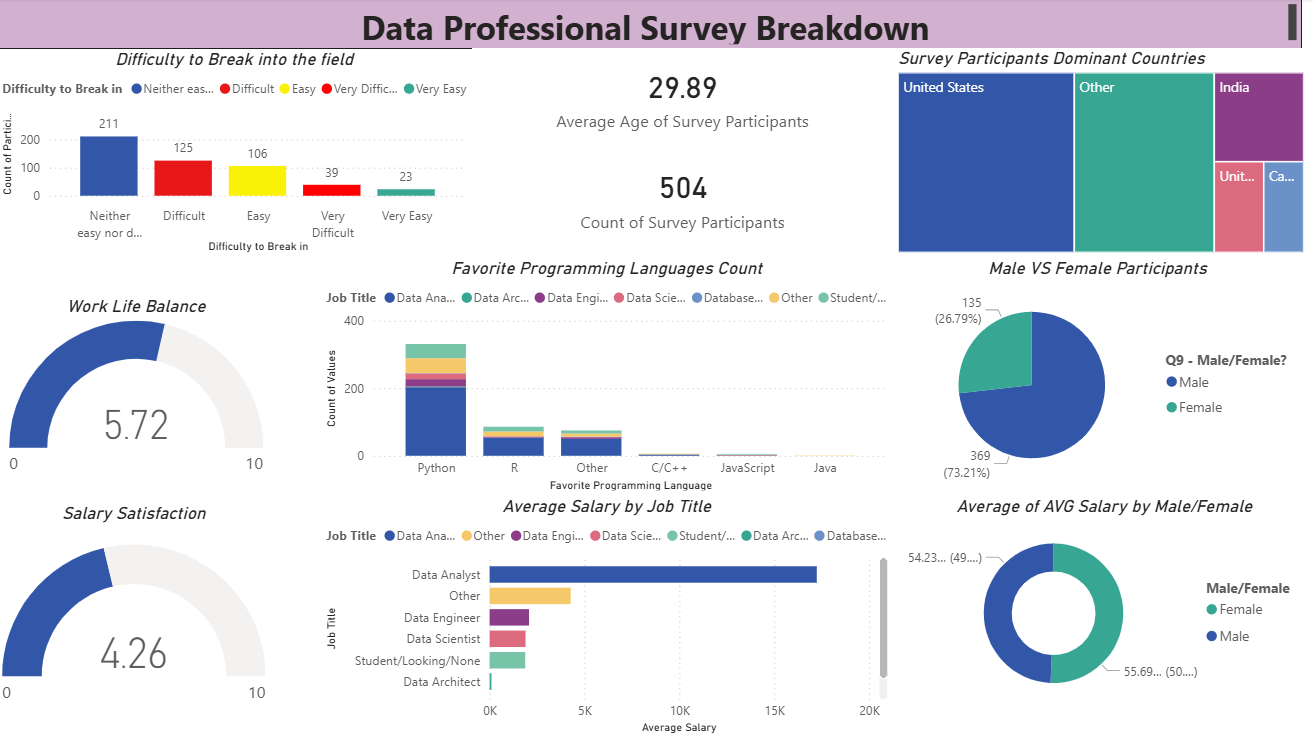

This screenshot's page, from the dashboard's own definition file:
{"tool":"powerbi","page":{"name":"Page 1","canvas":[1280,720],"ordinal":0},"visuals":[{"type":"textbox","box":[0,1.1,1269.4,48.8],"z":0},{"type":"card","fields":{"Values":["CountNonNull(Data Professional Survey.Unique ID)"]},"box":[461.7,150.7,409.7,84.9],"z":1000},{"type":"card","fields":{"Values":["Avg(Data Professional Survey.Q10 - Current Age)"]},"box":[461.7,48.8,409.7,93.4],"z":2000},{"type":"barChart","title":"Average Salary by Job Title","fields":{"Category":["Data Professional Survey.Q1 - Which Title Best Fits your Current Role?.1"],"Y":["Sum(Data Professional Survey.AVG Salary)"],"Series":["Data Professional Survey.Q1 - Which Title Best Fits your Current Role?.1"]},"box":[315.2,484,556.2,235.6],"z":3000},{"type":"columnChart","title":"Favorite Programming Languages Count","fields":{"Category":["Data Professional Survey.Q5 - Favorite Programming Language.1"],"Y":["CountNonNull(Data Professional Survey.Unique ID)"],"Series":["Data Professional Survey.Q1 - Which Title Best Fits your Current Role?.1"]},"box":[315.2,252.6,556.2,231.4],"z":4000},{"type":"treemap","title":"Survey Participants Dominant Countries","fields":{"Group":["Data Professional Survey.Q11 - Which Country do you live in?.1"],"Values":["CountNonNull(Data Professional Survey.Q11 - Which Country do you live in?.1)"]},"box":[871.4,48.8,404.4,203.8],"z":5000},{"type":"gauge","title":"Work Life Balance","fields":{"Y":["Avg(Data Professional Survey.Q6 - How Happy are you in your Current Position with the following? (Work/Life Balance))"],"MinValue":["Min(Data Professional Survey.Q6 - How Happy are you in your Current Position with the following? (Work/Life Balance))"],"MaxValue":["Max(Data Professional Survey.Q6 - How Happy are you in your Current Position with the following? (Work/Life Balance))"]},"box":[5.3,289.8,261.1,183.6],"z":6000},{"type":"gauge","title":"Salary Satisfaction","fields":{"Y":["Avg(Data Professional Survey.Q6 - How Happy are you in your Current Position with the following? (Salary))"],"MinValue":["Min(Data Professional Survey.Q6 - How Happy are you in your Current Position with the following? (Salary))"],"MaxValue":["Max(Data Professional Survey.Q6 - How Happy are you in your Current Position with the following? (Salary))"]},"box":[0,491.4,266.4,220.8],"z":7000},{"type":"pieChart","title":"Male  VS Female  Participants","fields":{"Category":["Data Professional Survey.Q9 - Male/Female?"],"Y":["CountNonNull(Data Professional Survey.Q9 - Male/Female?)"]},"box":[871.4,252.6,398,228.2],"z":8000},{"type":"donutChart","fields":{"Category":["Data Professional Survey.Q9 - Male/Female?"],"Y":["Avg(Data Professional Survey.AVG Salary)"]},"box":[874.6,484,405.4,209.1],"z":9000},{"type":"columnChart","title":"Difficulty to Break into the field","fields":{"Y":["CountNonNull(Data Professional Survey.Unique ID)"],"Category":["Data Professional Survey.Q7 - How difficult was it for you to break into Data?"],"Series":["Data Professional Survey.Q7 - How difficult was it for you to break into Data?"]},"box":[0,49.9,461.7,202.7],"z":10000}]}

Visuals, with their boxes in screenshot pixels (x1, y1, x2, y2), scaled from the page's 1280x720 canvas onto the 1313x738 screenshot:
textbox: box=[0, 1, 1302, 51]
card - CountNonNull(Data Professional Survey.Unique ID): box=[474, 154, 894, 241]
card - Avg(Data Professional Survey.Q10 - Current Age): box=[474, 50, 894, 146]
"Average Salary by Job Title" barChart: box=[323, 496, 894, 737]
"Favorite Programming Languages Count" columnChart: box=[323, 259, 894, 496]
"Survey Participants Dominant Countries" treemap: box=[894, 50, 1309, 259]
"Work Life Balance" gauge: box=[5, 297, 273, 485]
"Salary Satisfaction" gauge: box=[0, 504, 273, 730]
"Male  VS Female  Participants" pieChart: box=[894, 259, 1302, 493]
donutChart - Data Professional Survey.Q9 - Male/Female? x Avg(Data Professional Survey.AVG Salary): box=[897, 496, 1312, 710]
"Difficulty to Break into the field" columnChart: box=[0, 51, 474, 259]
